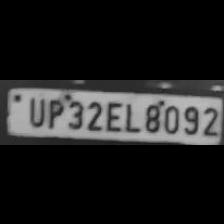0: (160, 100, 180, 134)
2: (199, 102, 219, 136), (84, 98, 104, 130)
3: (64, 97, 84, 129)
8: (140, 98, 162, 132)
9: (180, 102, 198, 134)
E: (102, 99, 122, 131)
L: (121, 99, 139, 131)
P: (45, 96, 63, 128)
U: (25, 93, 45, 126)
